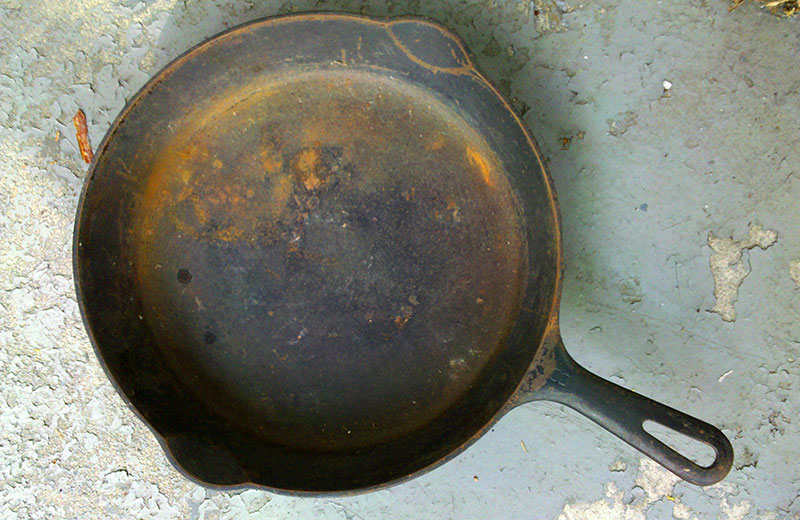rust: (112, 121, 213, 320), (439, 134, 504, 195), (287, 151, 334, 190)
